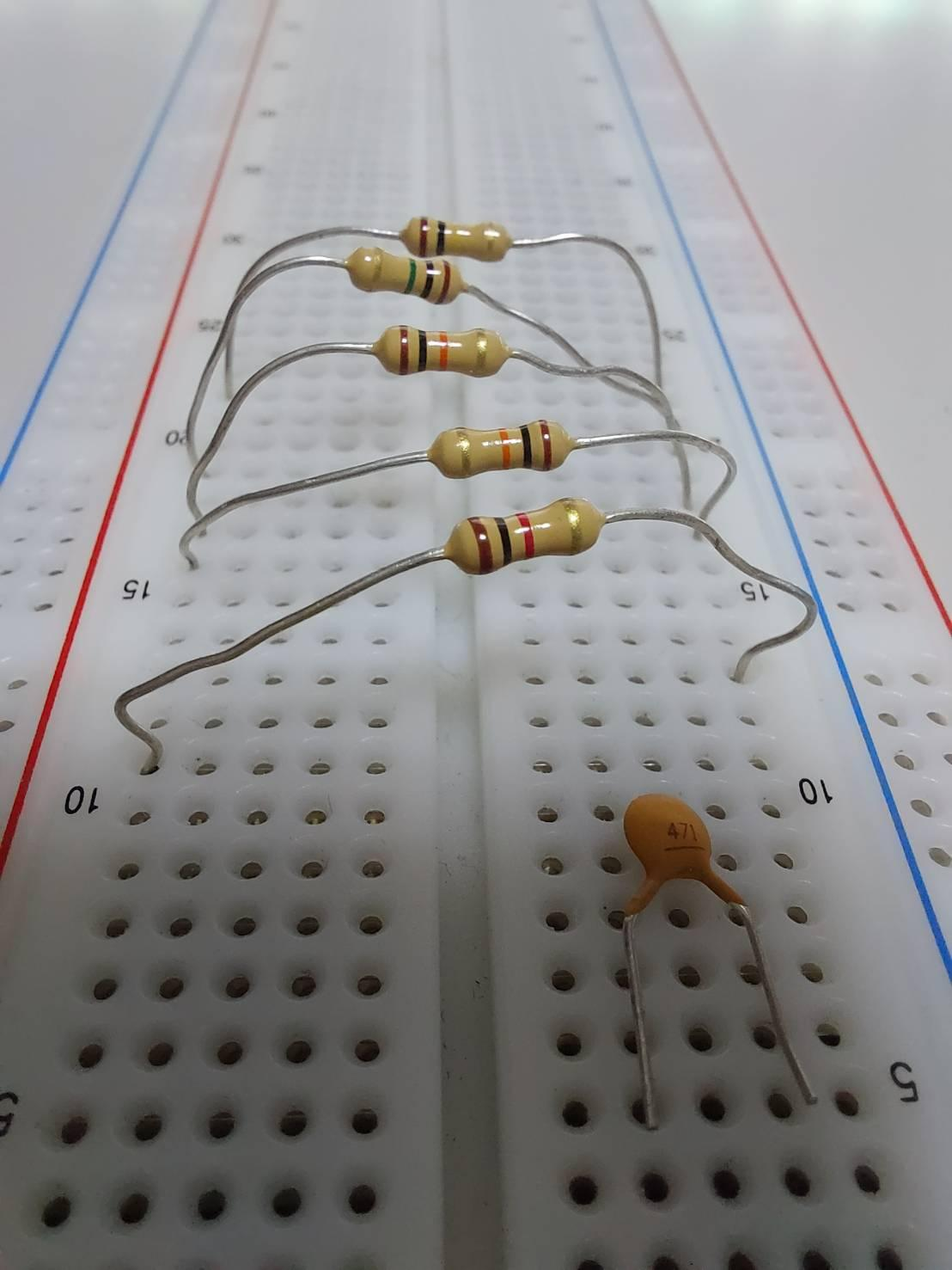resistor: (446, 499, 604, 571), (427, 420, 582, 474), (378, 322, 509, 381), (349, 249, 464, 308), (399, 213, 518, 262)
